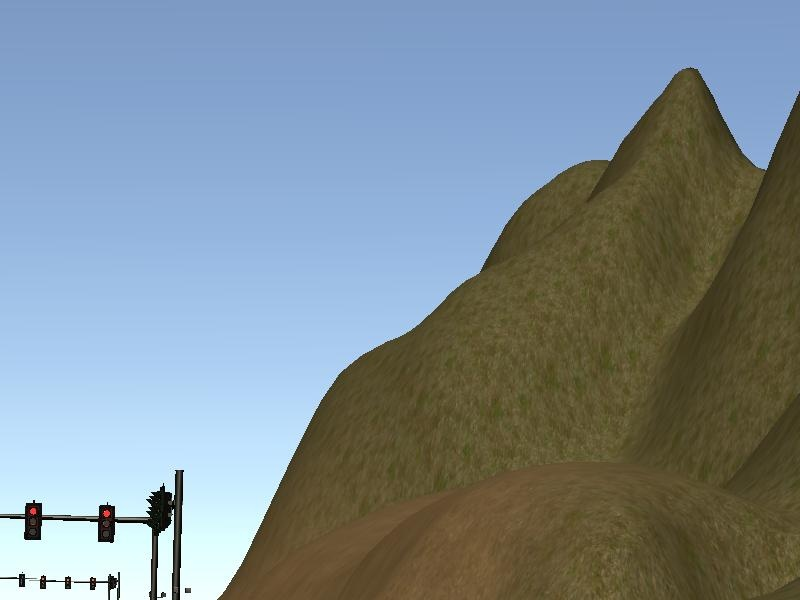red: (93, 502, 121, 550), (19, 500, 46, 544)
